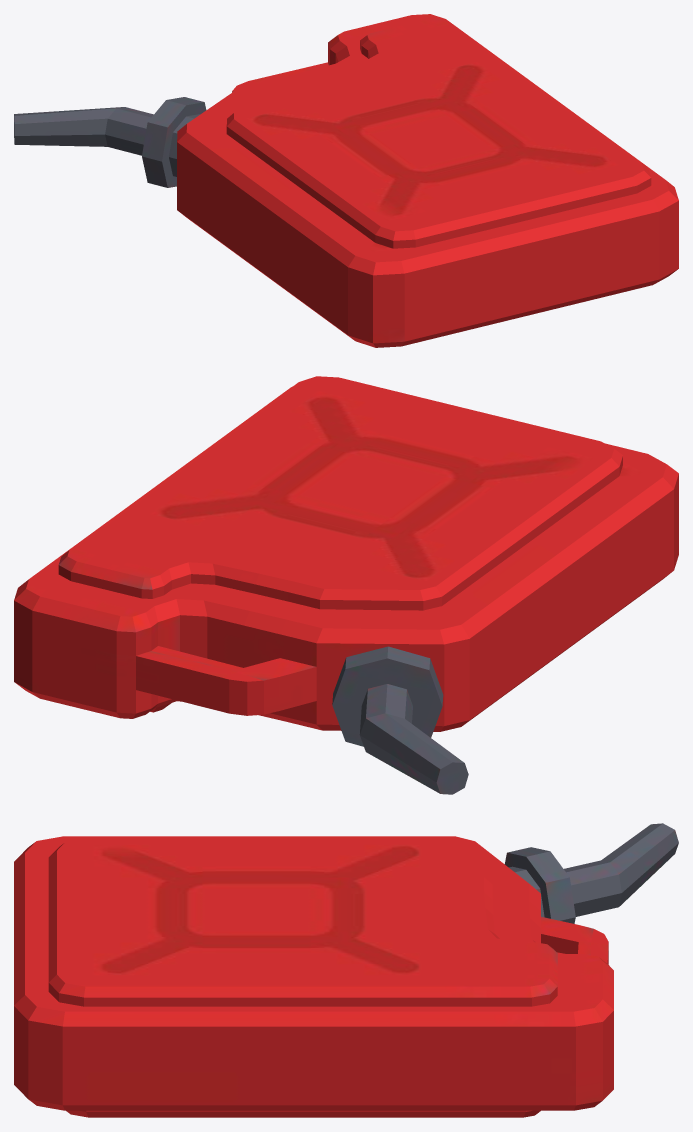
Rendered from Nitro.fbx.
The picture shows the model from 3 angles, top to bottom: view 1: azimuth 30°, elevation 25°; view 2: azimuth 150°, elevation 25°; view 3: azimuth 270°, elevation 25°; orthographic projection. The views are drawn at different scales.
Visible parts, largest first — view 1: gas; view 2: gas; view 3: gas.
Boxes of the visible parts, x1=… form: gas: x1=14, y1=14, x2=678, y2=347; gas: x1=14, y1=376, x2=678, y2=794; gas: x1=14, y1=823, x2=678, y2=1117.
Size of the model in its own units: 2.7 by 0.7311 by 3.29.
